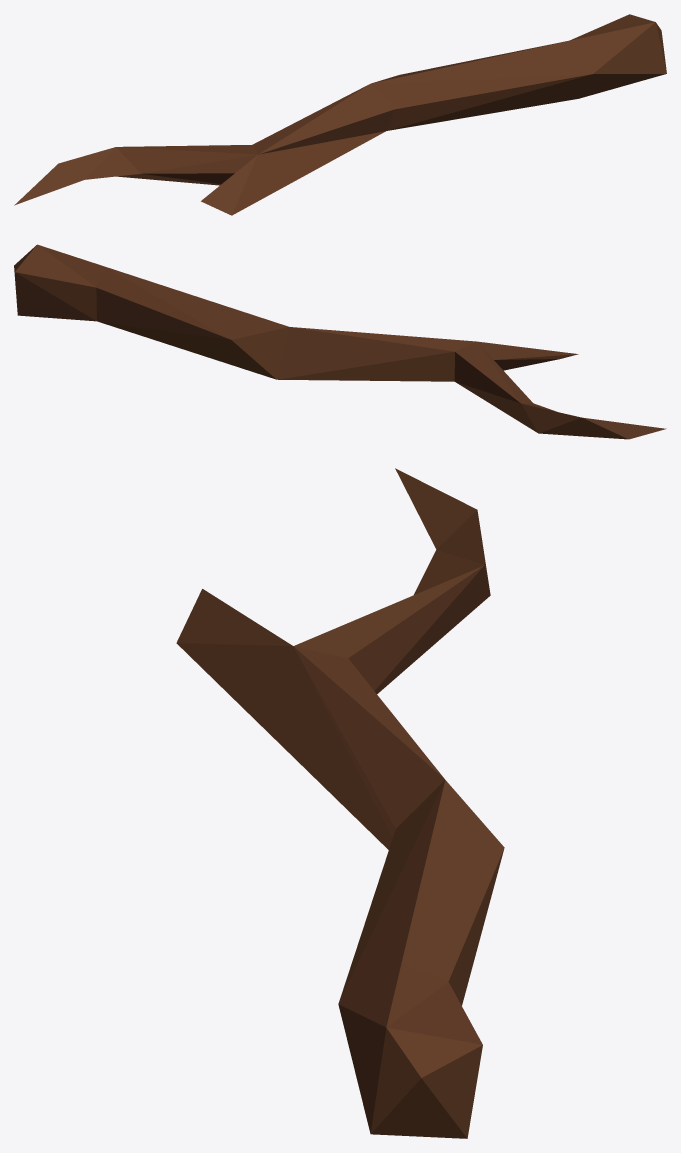
File: Stick1.fbx
3 renders of one model, top to bottom at view 1: azimuth 30°, elevation 25°; view 2: azimuth 150°, elevation 25°; view 3: azimuth 270°, elevation 25°, orthographic. The views are drawn at different scales.
Parts seen in each view (by area): view 1: Stick1; view 2: Stick1; view 3: Stick1.
Boxes of the visible parts, x1,y1,x2,y2 form: Stick1: [14, 14, 666, 215]; Stick1: [14, 244, 666, 439]; Stick1: [176, 468, 504, 1138].
Size of the model in its own units: 147 by 12.17 by 32.29.
